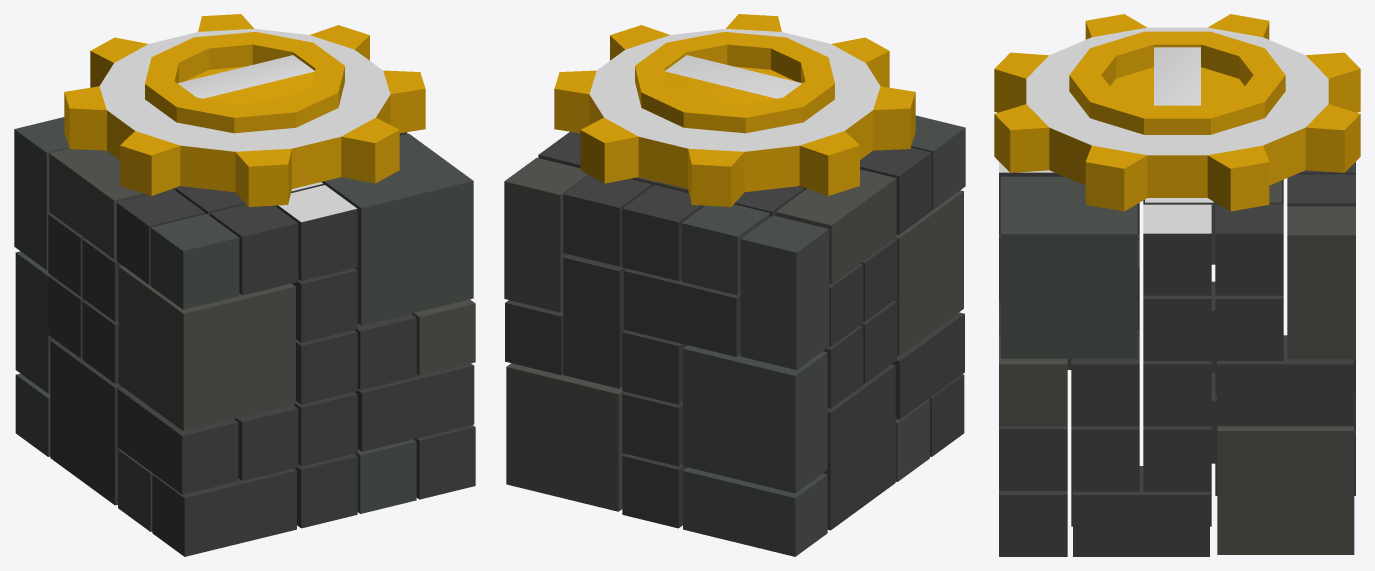
Rendered from CogTile.fbx.
3 renders of one model, left to right at view 1: azimuth 30°, elevation 25°; view 2: azimuth 150°, elevation 25°; view 3: azimuth 270°, elevation 25°, orthographic. The views are drawn at different scales.
Visible parts, largest first — view 1: Cube, Cylinder, Cable1; view 2: Cube, Cylinder; view 3: Cube, Cylinder, Cable2, Cable1.
Part boxes in pixels (<box>): Cube: <box>14,117,475,556</box>; Cylinder: <box>64,14,425,206</box>; Cable1: <box>275,182,357,280</box>; Cube: <box>504,115,965,556</box>; Cylinder: <box>554,14,915,206</box>; Cube: <box>999,162,1355,556</box>; Cylinder: <box>994,14,1360,211</box>; Cable2: <box>1143,180,1281,295</box>; Cable1: <box>999,162,1139,234</box>.
Bounding box in the file's own units: 1017 × 1245 × 1017.
